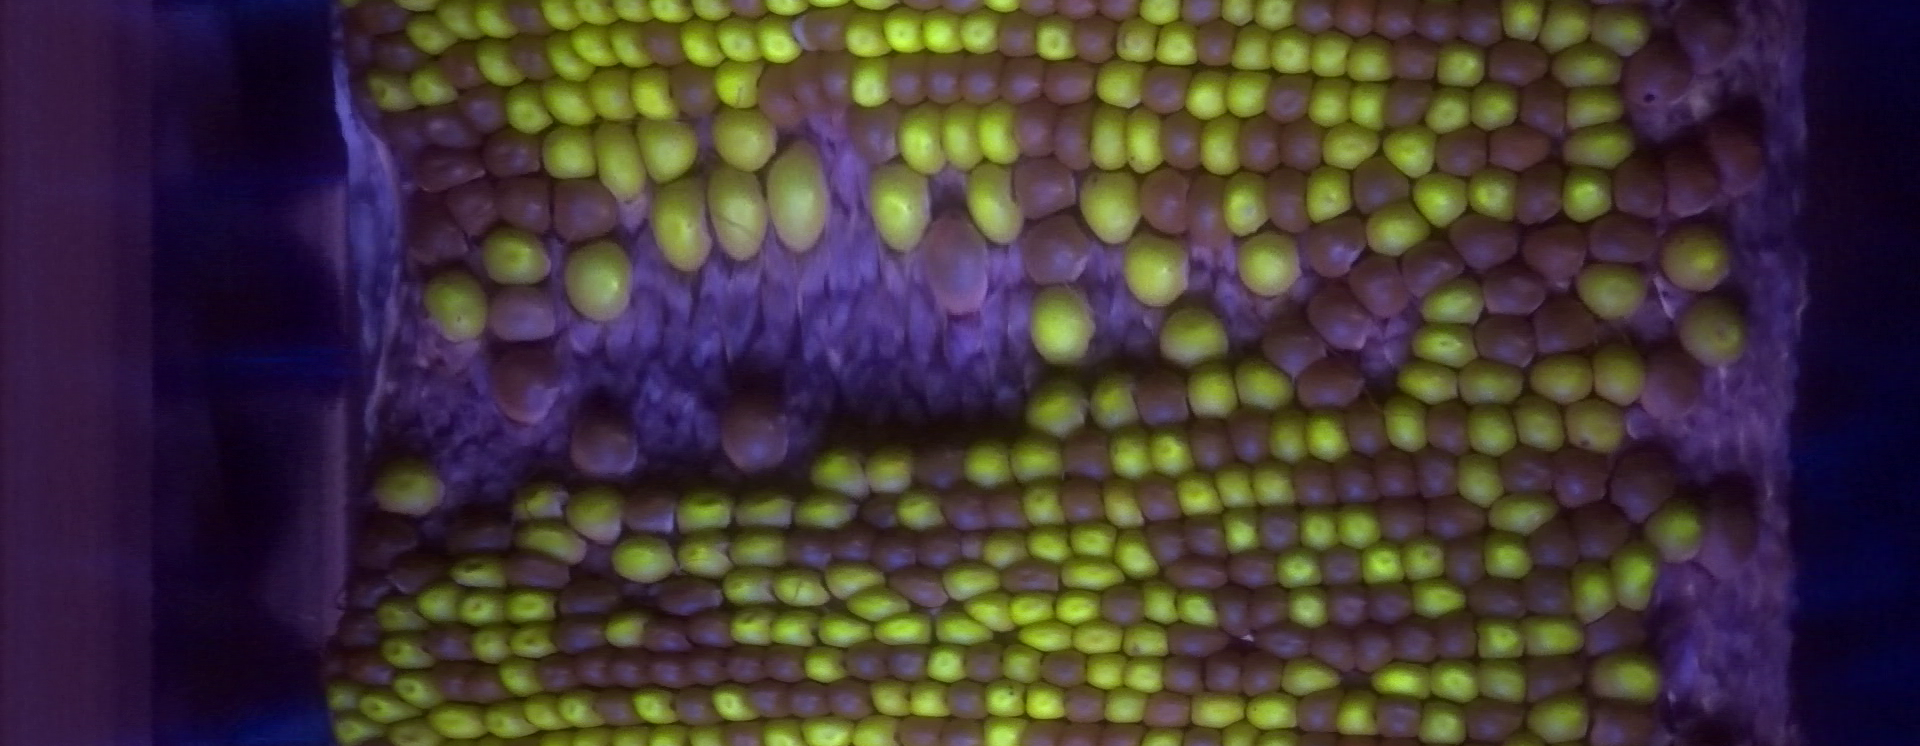fluorescent: (764, 135, 836, 257), (703, 162, 773, 268), (647, 173, 719, 276), (1022, 281, 1104, 370), (864, 160, 936, 255), (562, 238, 637, 325), (418, 265, 493, 345), (1657, 220, 1738, 296), (1075, 167, 1149, 249), (1673, 292, 1751, 367), (962, 160, 1029, 250), (1119, 229, 1191, 310), (1642, 492, 1712, 573), (370, 454, 452, 521), (1233, 225, 1305, 300), (476, 225, 558, 290), (589, 120, 650, 205), (632, 115, 703, 187), (707, 107, 780, 176), (1572, 257, 1649, 323), (1156, 305, 1233, 370), (1588, 648, 1673, 707), (1020, 372, 1089, 445), (1604, 537, 1665, 617), (1363, 196, 1436, 260), (1229, 352, 1300, 416), (1547, 36, 1629, 91), (1558, 396, 1632, 456), (562, 481, 629, 548), (893, 100, 950, 178), (1413, 274, 1493, 330), (508, 514, 593, 566), (804, 443, 877, 503), (607, 530, 683, 587), (1453, 356, 1532, 410), (1521, 690, 1596, 746), (1562, 76, 1631, 137), (1556, 124, 1643, 171), (1507, 392, 1572, 456), (1589, 341, 1649, 409), (789, 485, 868, 537), (1407, 170, 1473, 230), (1407, 320, 1484, 371), (1220, 169, 1275, 240), (1558, 160, 1618, 225), (1087, 367, 1145, 435), (938, 100, 988, 178), (1529, 352, 1599, 407), (973, 97, 1027, 168), (1183, 360, 1244, 423), (958, 434, 1022, 492), (1566, 557, 1622, 625), (1003, 432, 1071, 488), (538, 120, 599, 181), (584, 64, 643, 127), (1378, 121, 1441, 180), (669, 486, 742, 537), (1586, 1, 1649, 59), (1488, 488, 1562, 537), (1463, 401, 1523, 461), (1518, 611, 1591, 660), (1319, 119, 1381, 175), (1464, 162, 1520, 225), (1303, 163, 1358, 227), (1087, 103, 1138, 173), (672, 527, 738, 579), (1367, 657, 1438, 706), (628, 64, 687, 122), (542, 28, 600, 88), (1466, 73, 1522, 135), (1396, 356, 1466, 405), (937, 557, 1011, 603), (1480, 526, 1538, 584), (1195, 111, 1245, 179), (498, 78, 558, 135), (538, 75, 599, 130), (1452, 450, 1506, 512), (1120, 105, 1167, 178), (841, 583, 921, 625), (473, 36, 530, 93), (1536, 1, 1594, 58), (860, 442, 920, 497), (1302, 405, 1357, 465), (1430, 36, 1491, 89), (767, 562, 835, 610), (709, 58, 768, 113), (819, 557, 893, 601), (507, 480, 578, 526), (358, 684, 429, 729), (1382, 390, 1433, 453), (730, 486, 798, 533), (1103, 426, 1160, 483), (725, 526, 791, 573), (384, 666, 451, 714), (1116, 522, 1166, 584), (1472, 615, 1534, 665), (1098, 477, 1153, 533), (1472, 653, 1528, 708), (444, 549, 517, 592), (929, 606, 1000, 649), (1144, 424, 1198, 480), (676, 15, 729, 72), (1056, 554, 1133, 593), (1278, 653, 1347, 697), (718, 563, 782, 610), (960, 586, 1021, 635), (1423, 657, 1484, 706), (713, 15, 768, 69), (1019, 475, 1073, 530), (1420, 85, 1476, 138), (1408, 575, 1472, 621), (847, 51, 898, 110), (420, 699, 492, 740), (1222, 66, 1276, 120), (408, 58, 463, 110), (1093, 59, 1149, 111), (1336, 499, 1389, 554), (1240, 687, 1305, 731), (753, 13, 806, 67), (1180, 69, 1233, 122), (1303, 75, 1354, 130), (1417, 696, 1473, 746), (872, 610, 942, 650), (893, 483, 951, 530), (1173, 467, 1226, 519), (1250, 457, 1302, 511), (1343, 29, 1393, 85), (864, 674, 922, 722), (814, 608, 878, 650), (1188, 688, 1251, 731), (844, 9, 896, 60), (1229, 20, 1278, 75), (1022, 522, 1079, 570), (492, 653, 549, 701), (1307, 24, 1354, 81), (704, 680, 763, 725), (1068, 619, 1131, 660), (400, 11, 460, 55), (1112, 13, 1163, 65), (767, 606, 827, 650), (1333, 688, 1385, 740), (571, 22, 623, 72), (1136, 575, 1187, 627), (1294, 503, 1343, 557), (607, 18, 655, 73), (996, 641, 1051, 688), (1021, 677, 1076, 725), (362, 69, 419, 115), (410, 579, 467, 626), (1269, 22, 1315, 78), (1344, 78, 1391, 135), (1266, 405, 1311, 463), (878, 5, 929, 55), (1210, 461, 1260, 512), (1358, 538, 1408, 589), (1030, 13, 1082, 62), (1396, 535, 1449, 584), (500, 587, 564, 626), (976, 526, 1033, 570), (917, 7, 969, 56), (373, 595, 433, 637), (1015, 619, 1082, 655), (1100, 684, 1157, 726), (1152, 20, 1202, 69), (553, 686, 606, 733), (1273, 545, 1327, 590), (1119, 620, 1177, 661), (482, 698, 540, 740), (628, 685, 686, 726), (1068, 519, 1122, 563), (380, 631, 438, 671), (519, 692, 573, 736), (1221, 503, 1264, 559), (456, 587, 512, 628), (955, 9, 1004, 56), (1283, 582, 1332, 630), (983, 675, 1033, 722), (907, 675, 958, 722), (1172, 586, 1223, 631), (602, 609, 655, 653), (1052, 587, 1107, 628), (798, 643, 853, 685), (508, 621, 564, 661), (468, 624, 516, 670), (1004, 590, 1060, 630), (845, 710, 906, 746), (1122, 652, 1168, 698), (1082, 649, 1131, 693), (923, 644, 973, 687), (383, 714, 449, 746), (729, 605, 778, 648), (1498, 1, 1547, 44), (432, 1, 482, 43), (329, 715, 393, 746), (322, 674, 369, 715), (471, 4, 522, 40), (798, 715, 858, 746), (981, 713, 1033, 746), (534, 1, 584, 34), (1253, 1, 1296, 36), (573, 1, 623, 29), (1135, 1, 1187, 28), (647, 1, 698, 26), (1217, 1, 1259, 29), (609, 1, 656, 26), (688, 1, 738, 24)
nonfluorescent: (912, 205, 993, 318), (1690, 479, 1764, 584), (1602, 443, 1682, 529), (1019, 211, 1092, 294), (711, 402, 791, 477), (486, 350, 561, 425), (544, 175, 624, 244), (1298, 209, 1371, 281), (1303, 285, 1373, 354), (1637, 352, 1704, 423), (1342, 252, 1414, 318), (1529, 294, 1600, 360), (1702, 129, 1766, 201), (408, 138, 489, 195), (842, 98, 913, 162), (1520, 217, 1591, 281), (1442, 212, 1522, 268), (566, 418, 640, 478), (1584, 207, 1656, 269), (485, 285, 558, 345), (1569, 491, 1630, 562), (1010, 158, 1078, 220), (1607, 152, 1669, 219), (495, 170, 555, 240), (1130, 367, 1193, 434), (1545, 447, 1607, 514), (1515, 649, 1589, 704), (1184, 160, 1229, 251), (1291, 359, 1367, 413), (1348, 152, 1413, 214), (1483, 121, 1558, 175), (1507, 159, 1569, 224), (475, 125, 545, 181), (1136, 165, 1191, 236), (1396, 239, 1460, 300), (1580, 604, 1647, 661), (754, 58, 807, 131), (1256, 323, 1327, 377), (1406, 439, 1464, 503), (1479, 263, 1545, 321), (1493, 443, 1559, 501), (498, 544, 571, 597), (1513, 75, 1570, 141), (1430, 124, 1493, 183), (1007, 97, 1063, 162), (1264, 167, 1319, 233), (1462, 573, 1531, 626), (1471, 310, 1536, 365), (1423, 492, 1488, 548), (1051, 98, 1100, 170), (1523, 512, 1583, 571), (1420, 397, 1476, 461), (1037, 55, 1102, 109), (1484, 37, 1550, 89), (542, 608, 613, 657), (1581, 697, 1656, 744), (1455, 697, 1533, 741), (440, 179, 500, 236), (1056, 424, 1116, 481), (1518, 563, 1576, 624), (1660, 156, 1717, 217), (1327, 453, 1389, 510), (667, 60, 722, 122), (1273, 111, 1329, 174), (1360, 575, 1419, 632), (1138, 61, 1198, 118), (1657, 562, 1718, 617), (367, 28, 433, 78), (800, 2, 860, 58), (1180, 412, 1236, 472), (651, 572, 722, 619), (1156, 109, 1207, 173), (1179, 508, 1236, 566), (1234, 110, 1283, 176), (1226, 404, 1278, 465), (444, 516, 516, 561), (501, 31, 558, 86), (456, 83, 513, 138), (1369, 446, 1424, 503), (1095, 581, 1153, 635), (1371, 496, 1431, 549), (1310, 544, 1370, 597), (776, 521, 839, 571), (382, 551, 449, 598), (997, 555, 1065, 600), (883, 565, 951, 610), (636, 15, 692, 70), (419, 616, 478, 669), (620, 486, 680, 538), (955, 47, 1004, 109), (1287, 457, 1342, 512), (1381, 77, 1435, 134), (1292, 685, 1349, 737), (340, 643, 397, 696), (885, 48, 932, 111), (435, 40, 492, 92), (376, 104, 433, 156), (419, 102, 478, 152), (1138, 514, 1193, 567), (1319, 579, 1374, 632), (1265, 69, 1316, 125), (1343, 401, 1393, 458), (1052, 477, 1111, 526), (1138, 685, 1196, 734), (553, 578, 624, 619), (1253, 501, 1307, 554), (1162, 617, 1229, 659), (1245, 579, 1292, 639), (1371, 688, 1423, 742), (997, 51, 1047, 107), (601, 646, 658, 695), (785, 48, 829, 110), (936, 486, 993, 534), (1155, 559, 1232, 594), (637, 609, 696, 655), (1308, 622, 1358, 676), (1128, 475, 1184, 523), (1057, 680, 1113, 728), (1222, 546, 1284, 589), (1153, 650, 1212, 696), (910, 443, 970, 488), (431, 654, 482, 706), (460, 659, 512, 710), (1390, 615, 1441, 666), (980, 483, 1030, 535), (640, 646, 694, 695), (669, 682, 724, 730), (922, 47, 965, 108), (1435, 539, 1491, 586), (1033, 646, 1092, 690), (721, 637, 771, 688), (910, 526, 964, 573), (1411, 1, 1466, 48), (531, 653, 587, 699), (869, 522, 918, 573), (1212, 579, 1255, 638), (840, 637, 894, 684), (1389, 36, 1439, 85), (1198, 647, 1247, 697), (880, 639, 933, 686), (1455, 2, 1509, 48), (1191, 15, 1237, 69), (738, 677, 793, 722), (992, 9, 1041, 58), (1070, 13, 1118, 64), (760, 639, 811, 687), (829, 521, 876, 572), (1429, 615, 1480, 661), (566, 650, 618, 695), (1249, 627, 1314, 663), (1237, 652, 1284, 699), (1351, 625, 1396, 675), (590, 685, 642, 729), (824, 677, 876, 722), (684, 606, 736, 649), (818, 47, 853, 108), (959, 639, 1007, 685), (687, 643, 731, 692), (785, 676, 831, 722), (943, 677, 989, 723), (502, 1, 556, 39), (855, 488, 900, 530), (1369, 2, 1418, 42), (893, 710, 950, 744), (353, 2, 409, 36), (1330, 1, 1380, 37), (936, 712, 989, 744), (1051, 718, 1109, 746), (1014, 715, 1068, 746), (1291, 1, 1333, 38), (1093, 718, 1149, 745), (716, 715, 767, 744), (1178, 722, 1229, 745), (720, 1, 770, 21)
